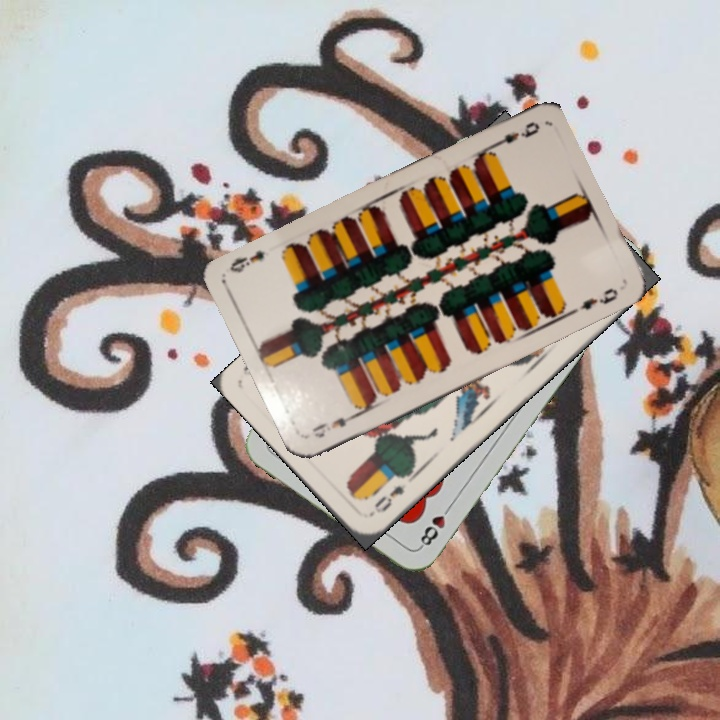E9: (486, 117, 542, 152), (308, 408, 361, 441)
EO: (366, 470, 411, 518)
H8: (415, 500, 455, 551)
